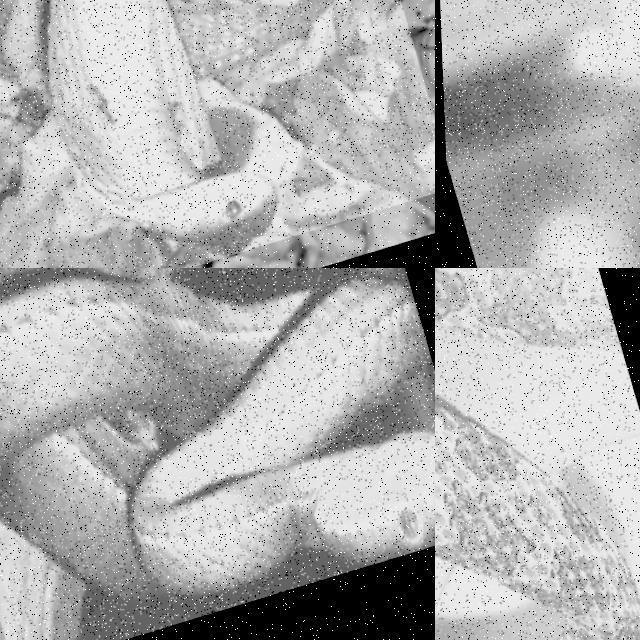Naja siamensis: (48, 0, 331, 254)
Ophiophagus hannah: (444, 0, 639, 171)
Ovophis monticola: (435, 408, 639, 639)
Trimeresurus: (0, 278, 434, 596)
snake: (0, 278, 434, 596), (48, 0, 331, 254), (435, 408, 639, 639), (444, 0, 639, 171)
